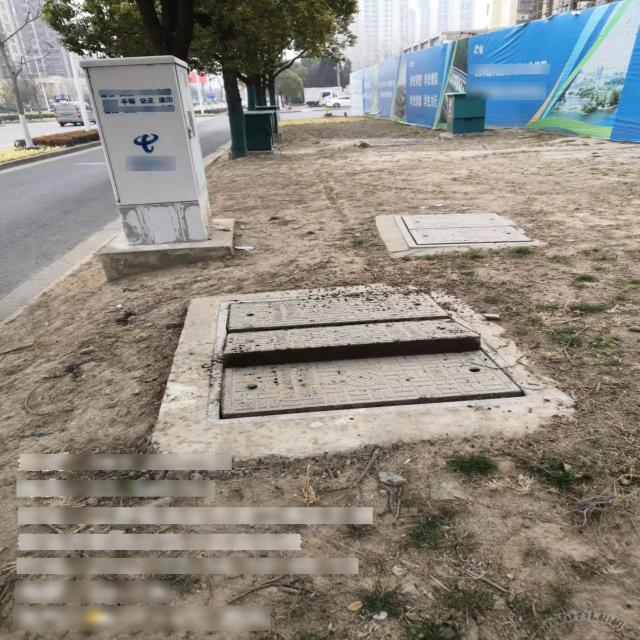Good: (391, 210, 544, 248)
Lose: (210, 290, 536, 427)
